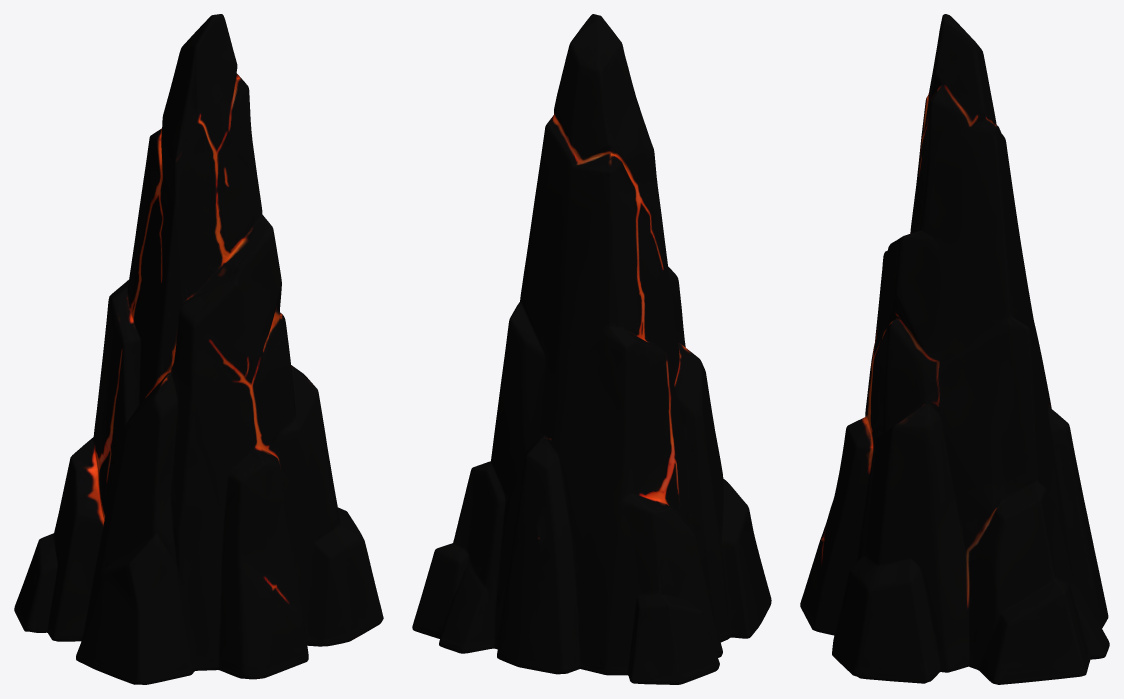
The model's file is prop_basalt_spire.glb.
3 renders of one model, left to right at view 1: azimuth 30°, elevation 25°; view 2: azimuth 150°, elevation 25°; view 3: azimuth 270°, elevation 25°, orthographic.
Visible parts, largest first — view 1: material; view 2: material; view 3: material.
Part boxes in pixels (x1,y1,x2,y2): material: (14,14,383,684); material: (412,14,771,684); material: (800,14,1109,684).
Bounding box in the file's own units: 0.5274 × 1.03 × 0.4811.
Materials: 1 (1 with a texture image).
